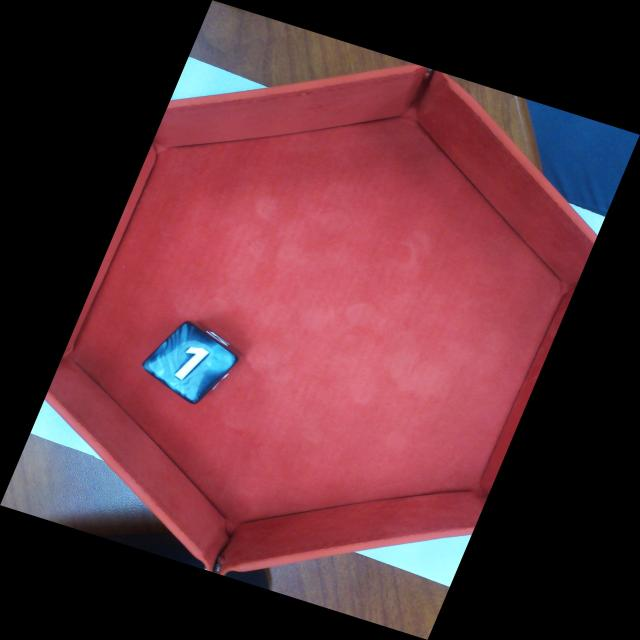dice: (136, 315, 242, 409)
